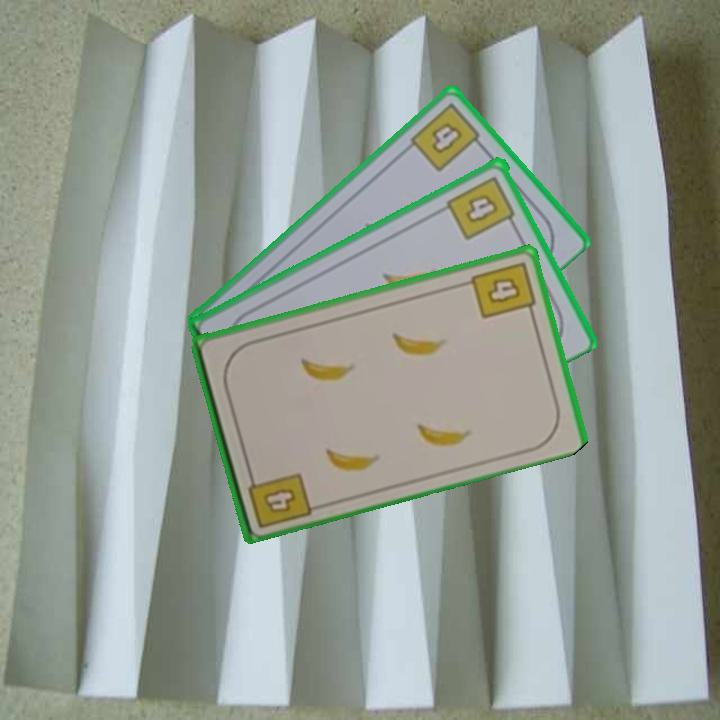4b: (406, 99, 488, 175), (443, 171, 520, 242), (244, 466, 314, 531), (467, 257, 538, 321)
